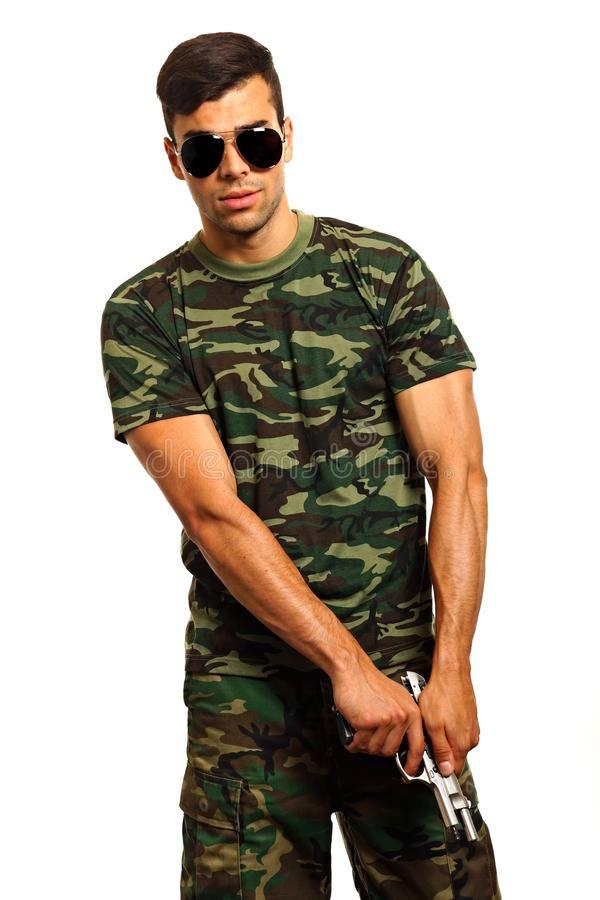criminal: (92, 28, 503, 900)
weapon: (336, 666, 491, 856)
